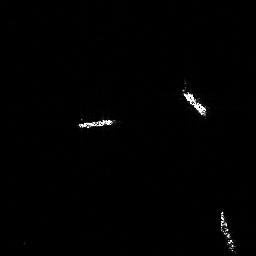ship: (214, 205, 241, 255), (177, 84, 210, 120), (73, 115, 117, 130)
